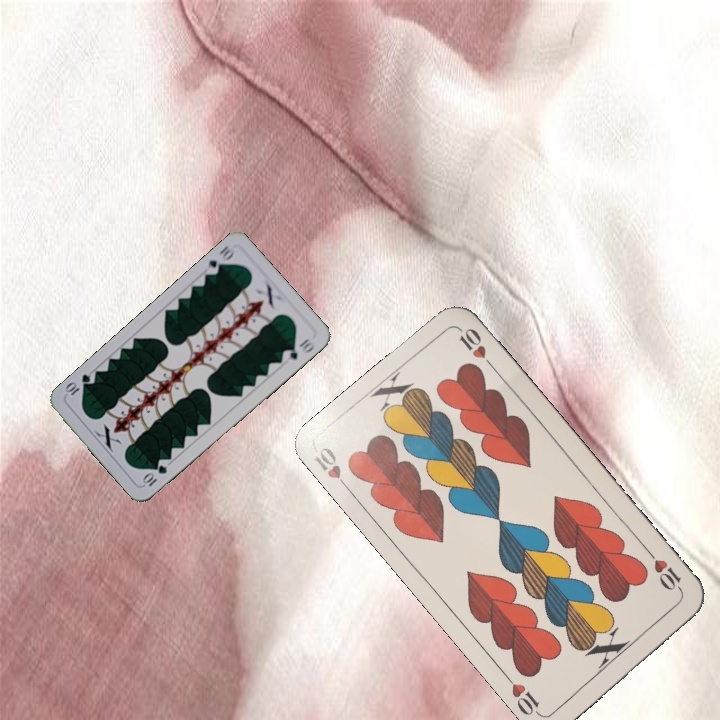G10: (204, 241, 238, 278), (139, 461, 170, 489)
H10: (309, 443, 354, 496), (643, 546, 686, 596)
